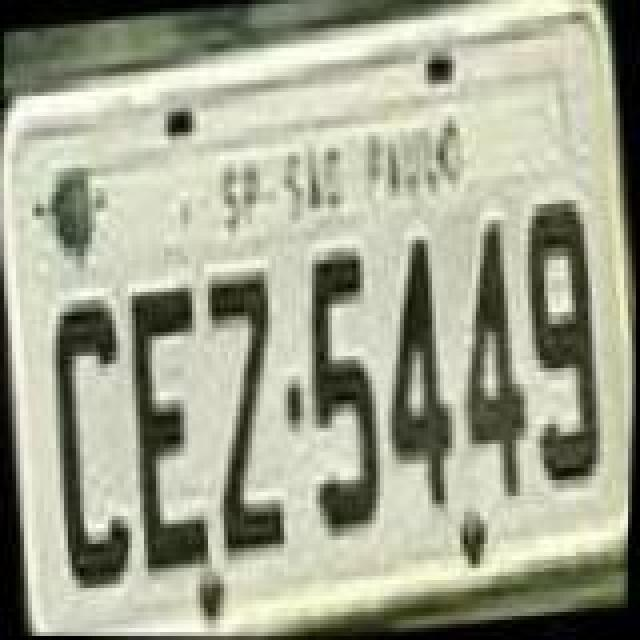4: (440, 220, 544, 504), (364, 238, 468, 514)
5: (286, 244, 398, 536)
9: (508, 198, 620, 490)
C: (36, 296, 148, 592)
E: (112, 280, 224, 576)
Z: (194, 268, 306, 556)
